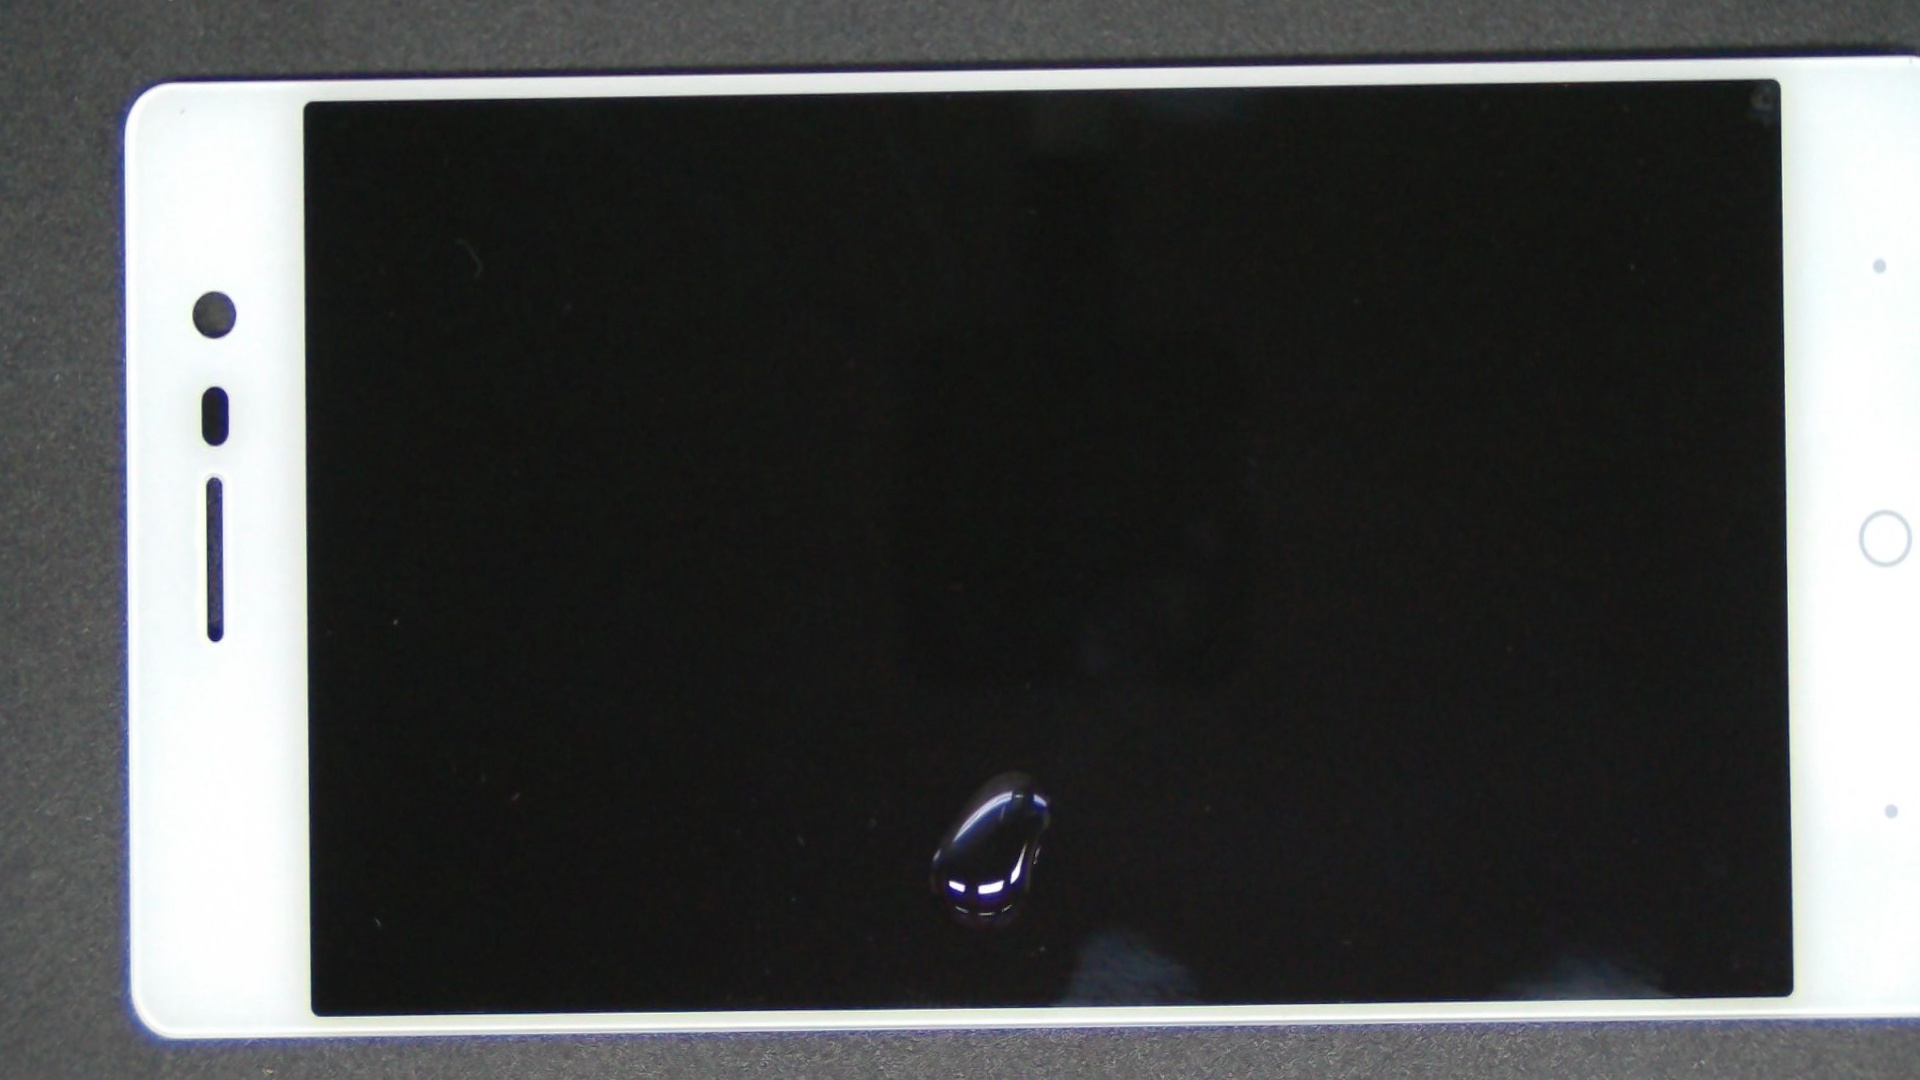oil: (500, 319, 1524, 1080)
